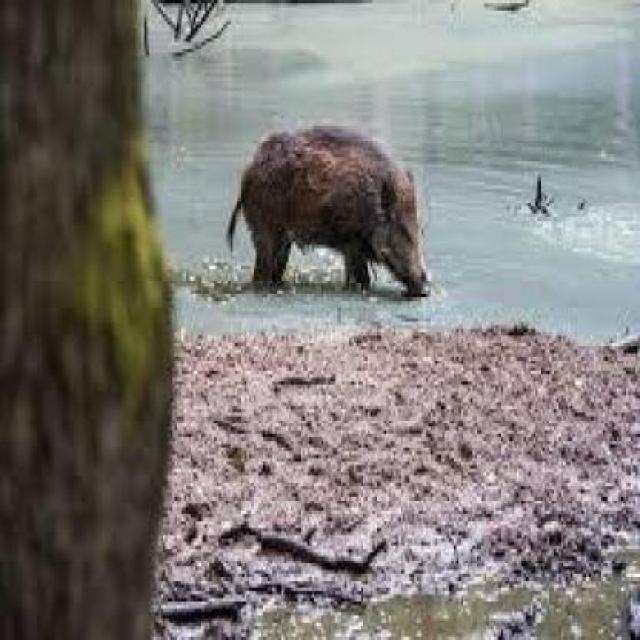wildboar: (225, 116, 433, 296)
